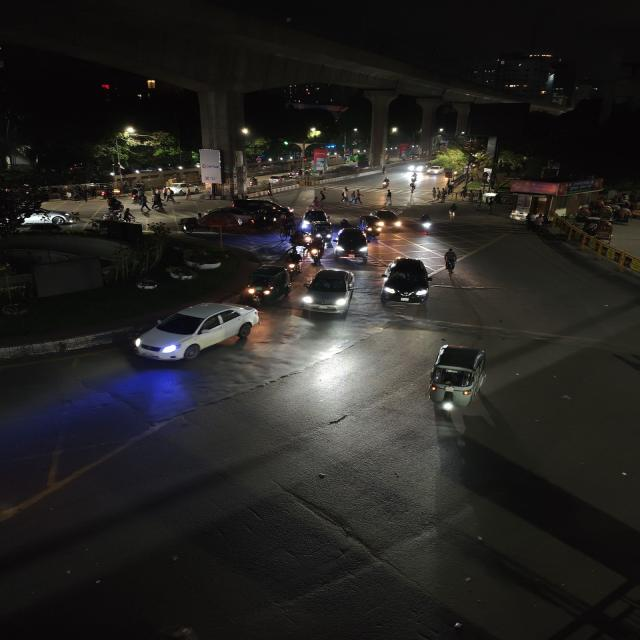bicycle: (439, 247, 462, 280)
car: (127, 300, 264, 366), (377, 256, 437, 310), (299, 267, 358, 317), (223, 198, 291, 230), (334, 228, 370, 262), (370, 207, 407, 231), (427, 165, 445, 178)
cng: (425, 341, 492, 421), (241, 264, 293, 304), (311, 220, 334, 243)
motorcycle: (285, 249, 305, 273), (416, 213, 437, 235), (378, 176, 393, 190), (408, 172, 422, 182)
pedestrian: (310, 185, 330, 205), (526, 214, 545, 234), (349, 189, 364, 206), (535, 213, 550, 229), (446, 202, 459, 220), (434, 186, 446, 203), (382, 190, 394, 207), (138, 196, 150, 213), (340, 186, 349, 206), (408, 182, 421, 195), (182, 186, 194, 200), (156, 193, 166, 209), (431, 186, 440, 203), (472, 193, 481, 209), (469, 190, 478, 204), (167, 188, 176, 202)
rickshaw: (17, 202, 84, 226)
